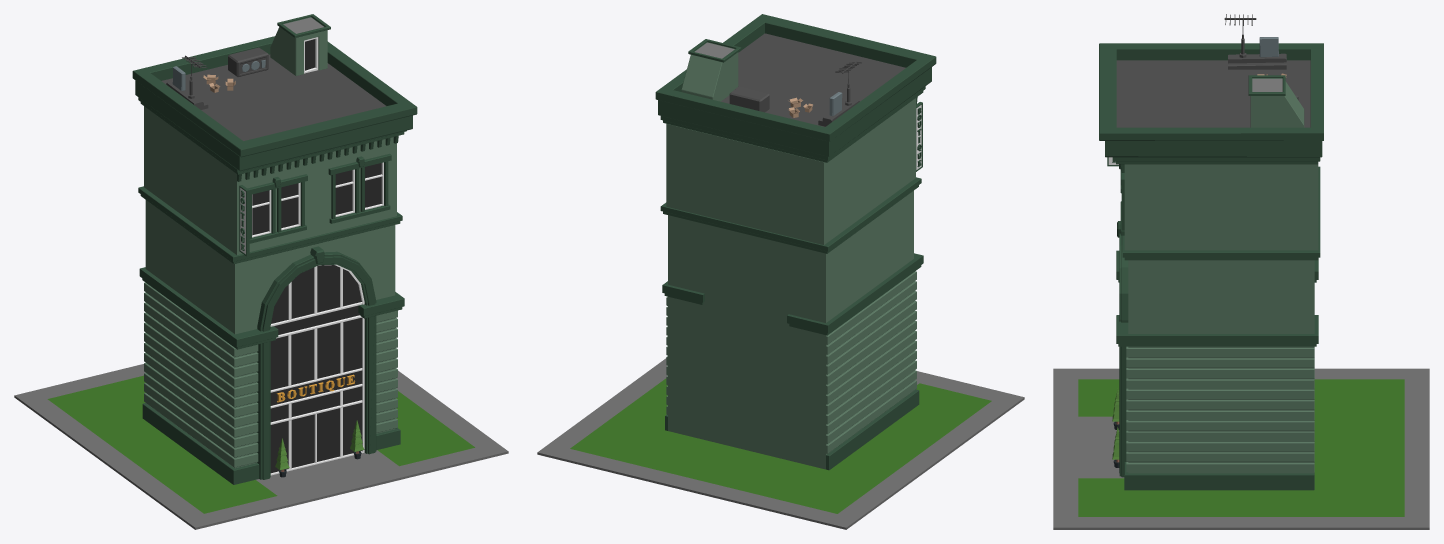
File: bldg-shop-b.glb
3 views of the same model, side by side, from view 1: azimuth 30°, elevation 25°; view 2: azimuth 150°, elevation 25°; view 3: azimuth 270°, elevation 25° (orthographic). The views are drawn at different scales.
Visible parts, largest first — view 1: boutique; view 2: boutique; view 3: boutique.
Part boxes in pixels (bbox=[...]): boutique: bbox=[14, 14, 508, 529]; boutique: bbox=[537, 14, 1024, 529]; boutique: bbox=[1053, 14, 1429, 529].
Size of the model in its own units: 15 by 17.51 by 15.
Materials: 1 (1 with a texture image).
